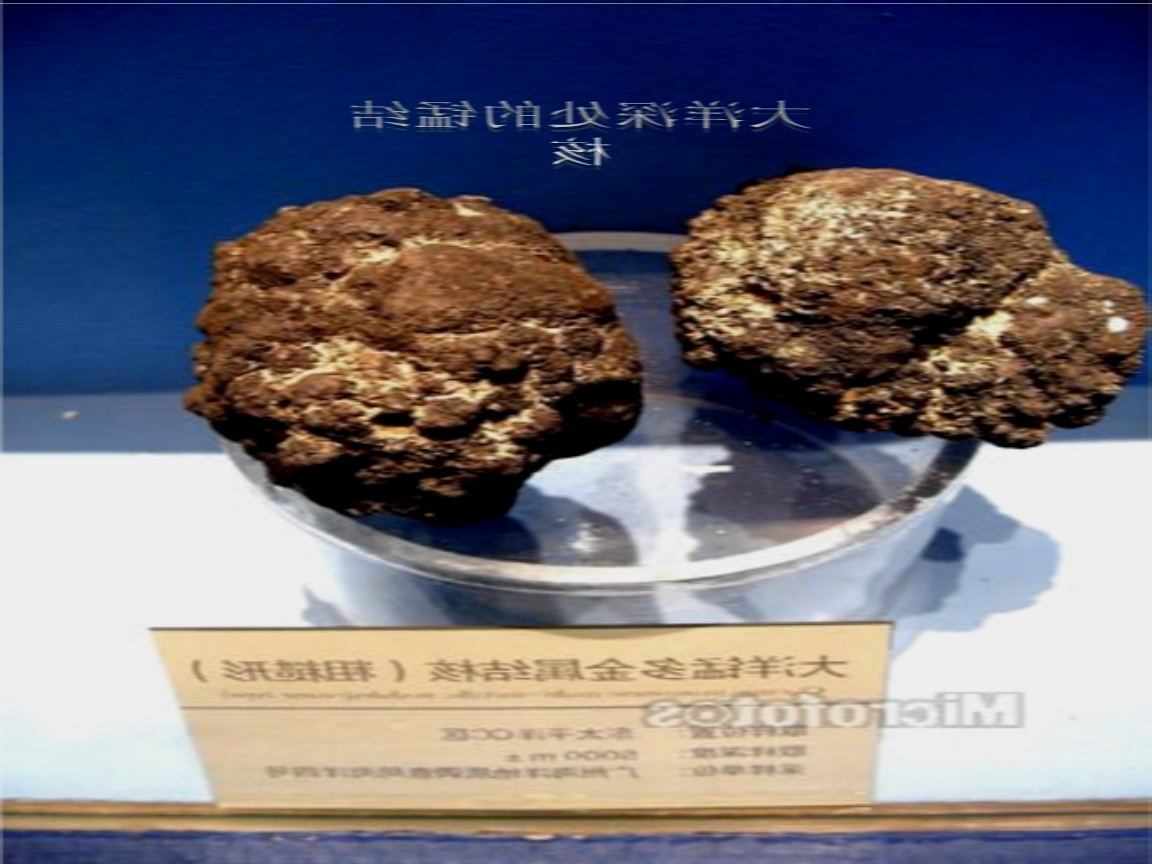halobolite: (187, 179, 649, 532), (659, 161, 1144, 452)
